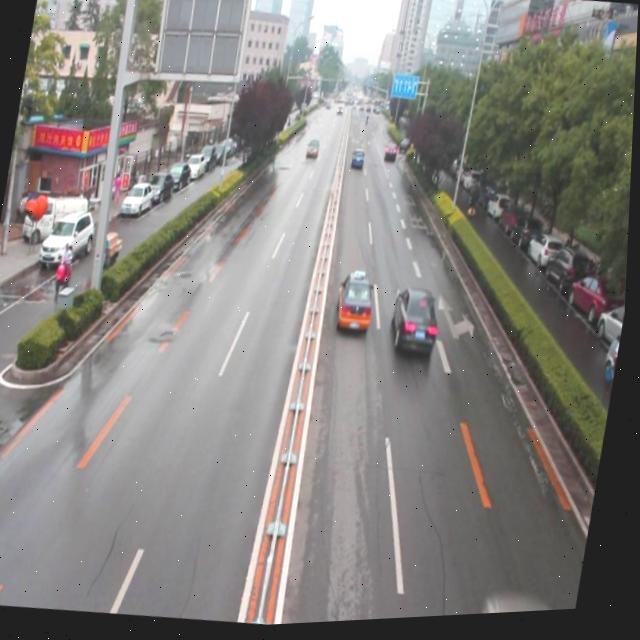car: (388, 286, 446, 367), (334, 270, 380, 340), (481, 591, 581, 620), (350, 149, 367, 173), (383, 143, 400, 166), (305, 141, 322, 164)
